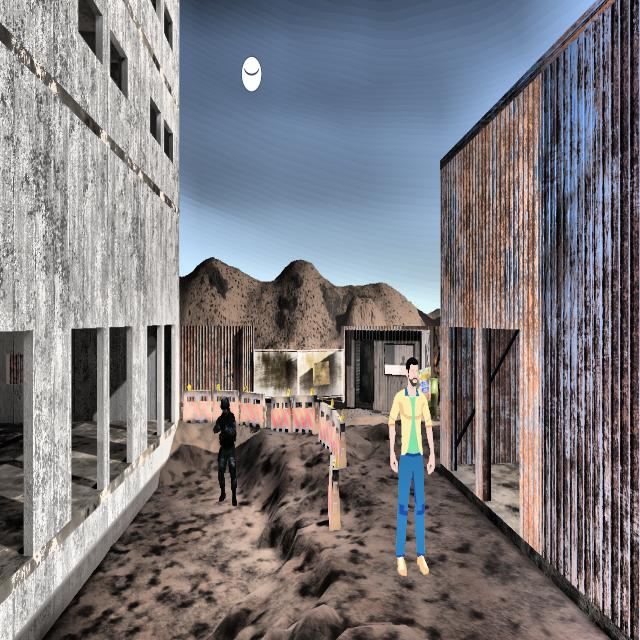bad: (209, 386, 243, 508)
good: (381, 340, 442, 582)
